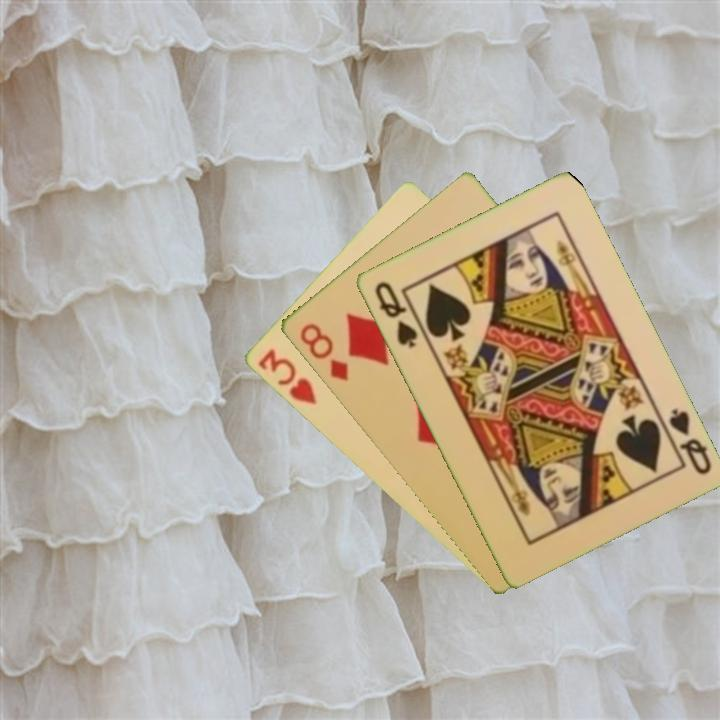3h: (253, 345, 319, 408)
8d: (295, 319, 352, 384)
Qs: (370, 277, 420, 351), (664, 404, 714, 478)
